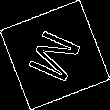M_SE: (23, 24, 87, 86)
